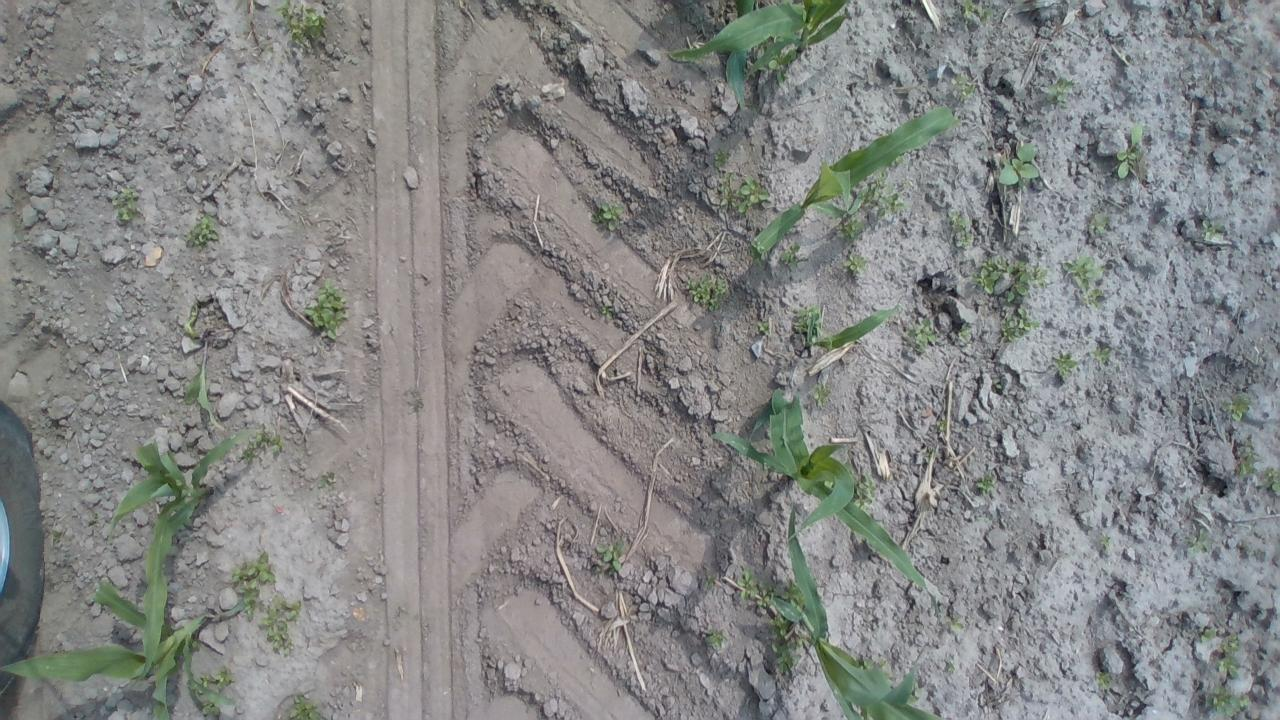Maize: (710, 387, 940, 614), (110, 428, 260, 690), (769, 507, 945, 720), (1, 579, 248, 720), (748, 105, 958, 260), (666, 0, 847, 74), (803, 302, 900, 352), (182, 336, 224, 430), (725, 0, 753, 107)
Weeds: (974, 253, 1050, 302), (230, 549, 276, 622), (303, 276, 347, 343), (274, 0, 330, 52), (260, 594, 302, 656), (1060, 251, 1104, 310), (715, 172, 772, 217), (768, 613, 802, 676), (684, 272, 728, 312), (998, 142, 1038, 186), (1116, 122, 1145, 180), (1205, 682, 1251, 718), (998, 306, 1040, 342), (243, 426, 282, 462), (186, 210, 221, 250), (590, 540, 626, 578), (736, 569, 772, 607), (903, 314, 938, 352), (111, 184, 141, 226), (588, 200, 624, 233), (876, 182, 906, 220), (946, 210, 975, 249), (852, 469, 878, 511), (793, 301, 824, 336), (1046, 75, 1075, 111), (1221, 394, 1254, 424), (1050, 347, 1079, 378), (860, 172, 886, 206), (199, 666, 235, 690), (962, 0, 996, 25), (769, 53, 793, 88), (290, 694, 322, 720), (949, 72, 977, 100), (778, 240, 806, 268), (842, 250, 871, 277), (1187, 527, 1213, 557), (181, 301, 201, 340), (834, 214, 864, 238), (1212, 656, 1242, 680), (975, 469, 998, 498), (1085, 213, 1113, 235), (1202, 219, 1226, 244), (1236, 450, 1258, 477), (812, 380, 834, 407), (780, 579, 803, 604), (406, 388, 426, 416), (702, 626, 729, 646), (1218, 634, 1242, 656), (700, 566, 719, 592), (1263, 465, 1280, 493), (712, 146, 730, 172), (1088, 345, 1112, 363), (1200, 626, 1220, 646), (1094, 670, 1113, 691), (200, 700, 222, 717), (316, 470, 334, 490), (945, 613, 965, 631), (956, 322, 972, 344), (859, 656, 888, 668), (912, 681, 924, 704), (598, 304, 614, 320), (756, 320, 772, 334), (991, 376, 1004, 391), (88, 510, 100, 526), (1100, 532, 1112, 548), (936, 415, 948, 431), (924, 447, 934, 466), (51, 528, 62, 544), (1244, 433, 1255, 449), (946, 658, 956, 674), (396, 605, 409, 617), (892, 158, 904, 166), (902, 180, 912, 189)
